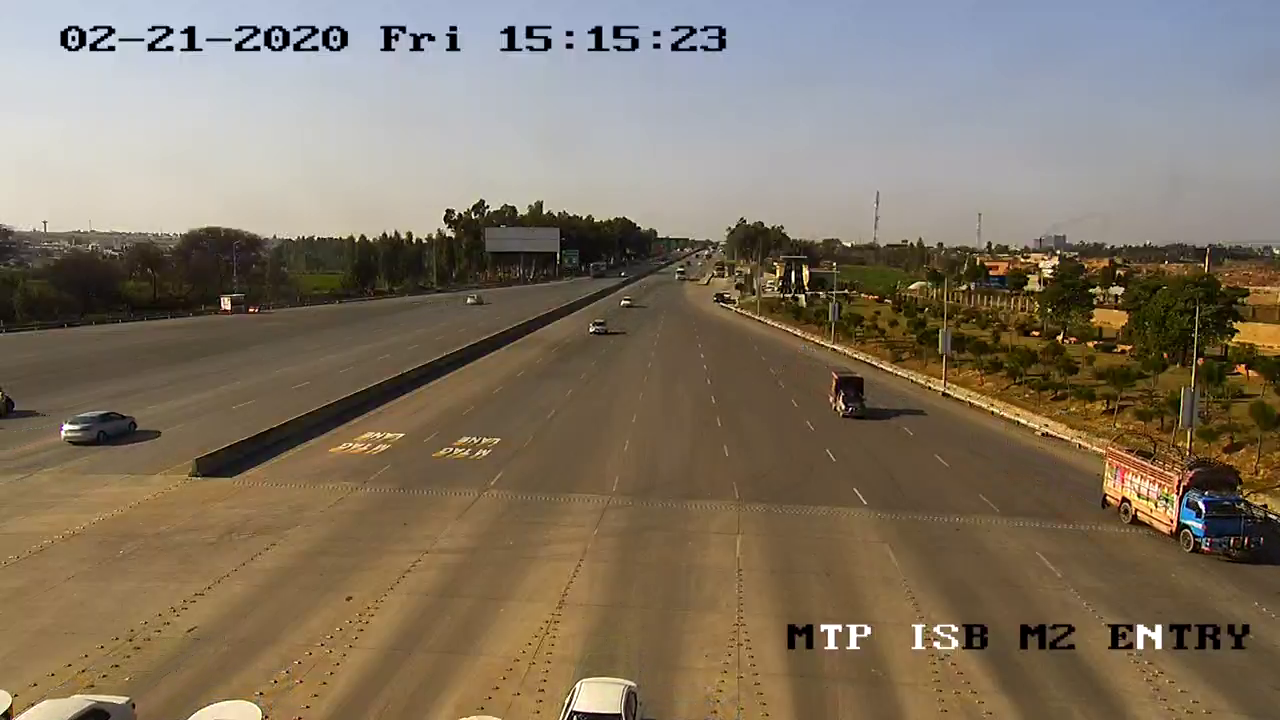f5: (1089, 427, 1267, 568)
